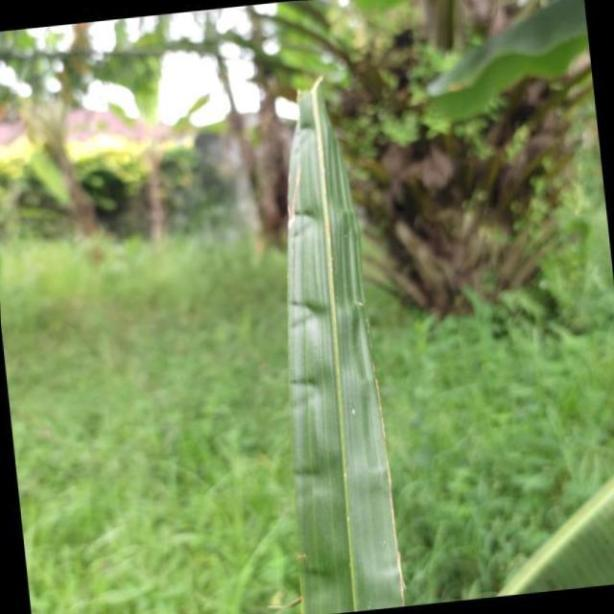Boron: (283, 65, 406, 614)
